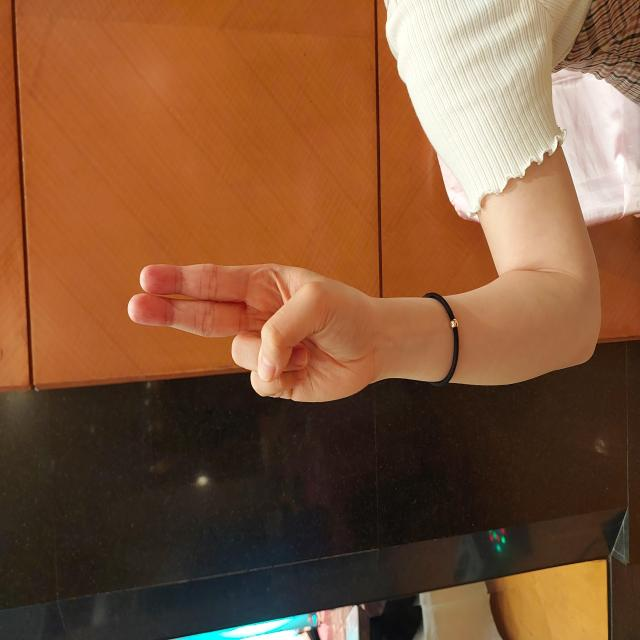U: (232, 125, 382, 381)
